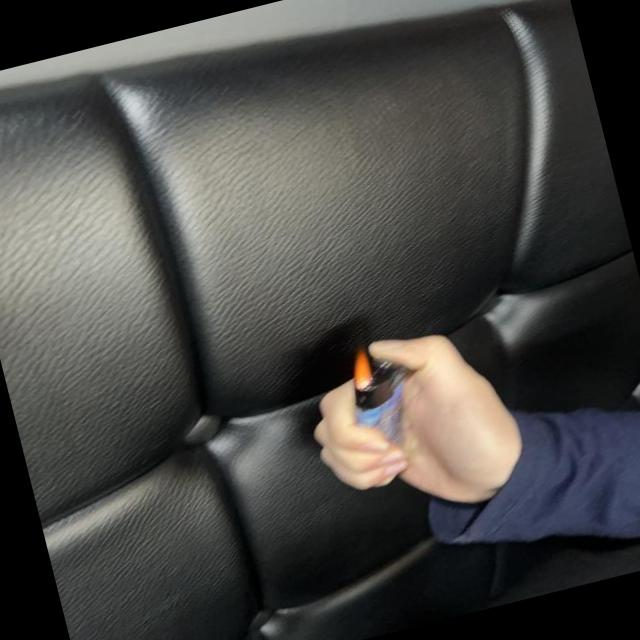Fire: (348, 348, 380, 391)
